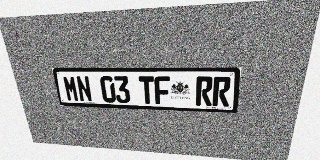0: (99, 76, 116, 103)
3: (114, 76, 130, 103)
F: (154, 76, 170, 105)
M: (62, 76, 80, 102)
N: (75, 76, 93, 102)
R: (212, 76, 231, 107), (196, 76, 213, 106)
T: (139, 76, 155, 104)
